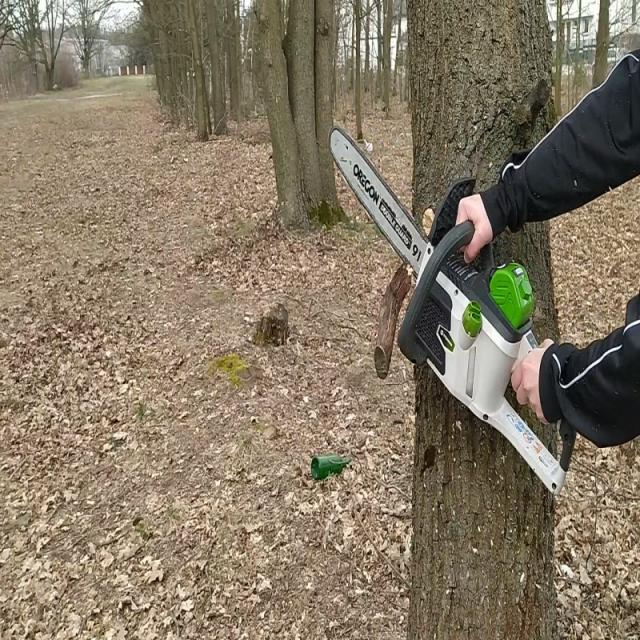Chainsaw: (323, 126, 577, 498)
